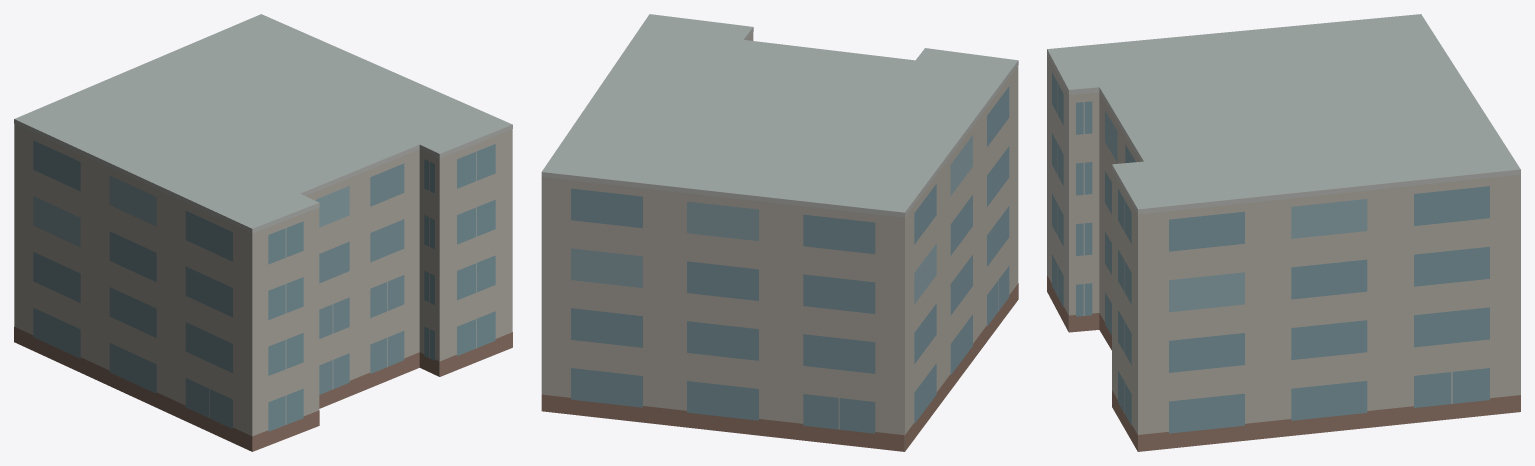
The model's file is survey-upis-32457290.glb.
3 views of the same model, side by side, from view 1: azimuth 30°, elevation 25°; view 2: azimuth 150°, elevation 25°; view 3: azimuth 270°, elevation 25° (orthographic). The views are drawn at different scales.
Visible parts, largest first — view 1: survey-upis-32457290.tmp; view 2: survey-upis-32457290.tmp; view 3: survey-upis-32457290.tmp.
Boxes of the visible parts, x1,y1,x2,y2 form: survey-upis-32457290.tmp: (14,14,512,451); survey-upis-32457290.tmp: (541,14,1018,451); survey-upis-32457290.tmp: (1047,14,1520,451).
Size of the model in its own units: 20.57 by 11.9 by 21.08.
